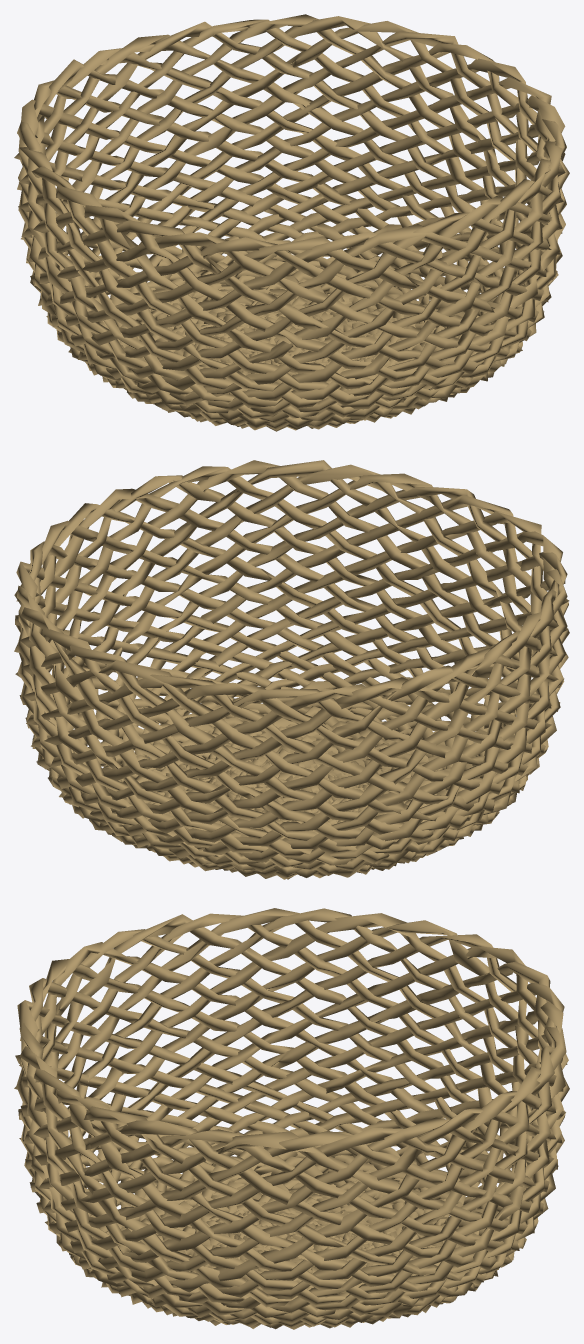
Rendered from Basket.fbx.
3 views of the same model, one above another, from view 1: azimuth 30°, elevation 25°; view 2: azimuth 150°, elevation 25°; view 3: azimuth 270°, elevation 25° (orthographic). The views are drawn at different scales.
Parts seen in each view (by area): view 1: Celtic; view 2: Celtic; view 3: Celtic.
Part boxes in pixels (<box>): Celtic: <box>14,14,569,431</box>; Celtic: <box>14,460,569,879</box>; Celtic: <box>14,908,569,1329</box>.
Size of the model in its own units: 193 by 91.99 by 193.
